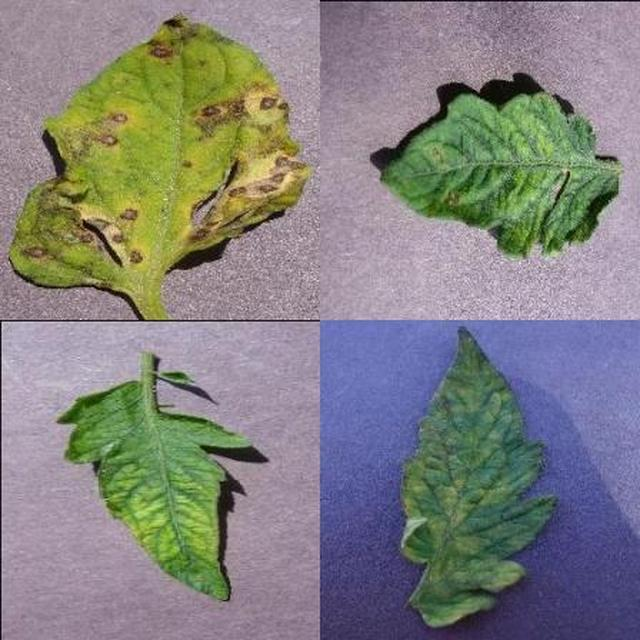Septoria Leaf: (219, 214, 640, 640)
